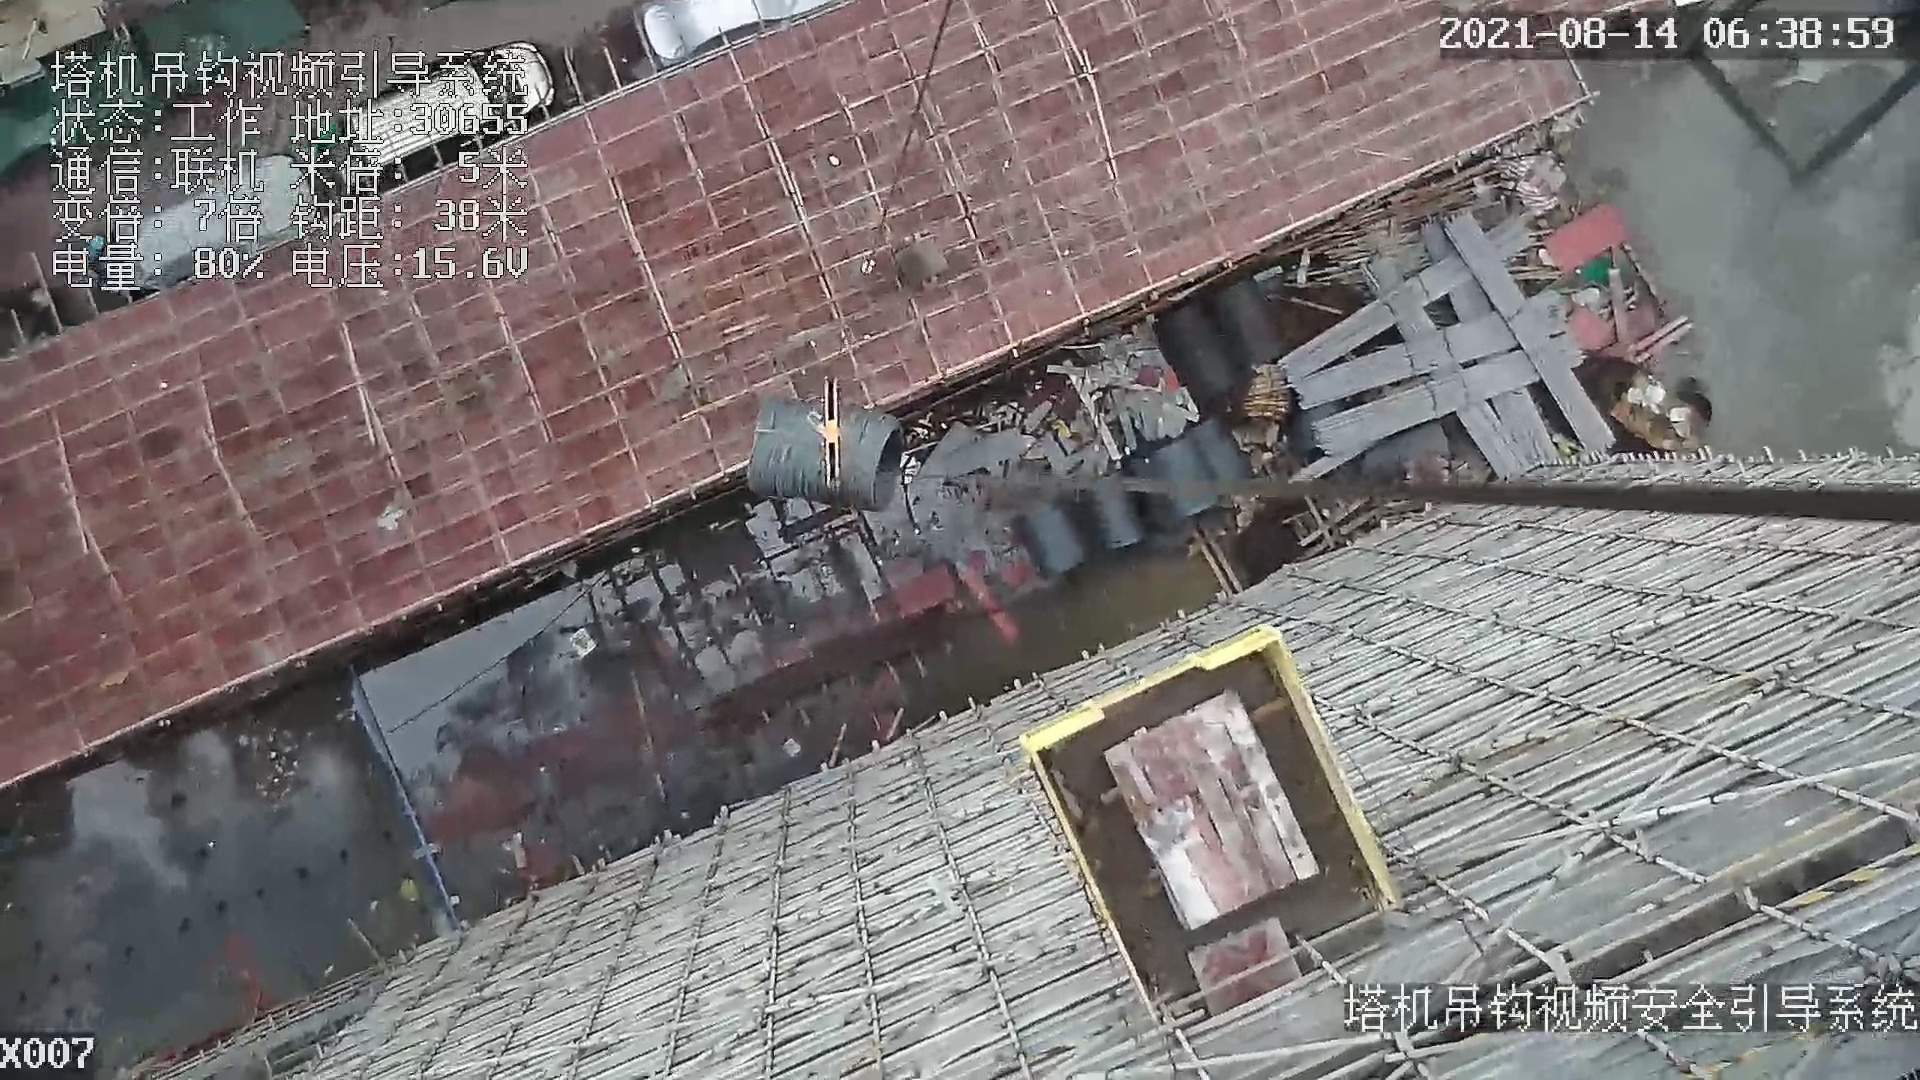hook: (804, 377, 847, 491)
